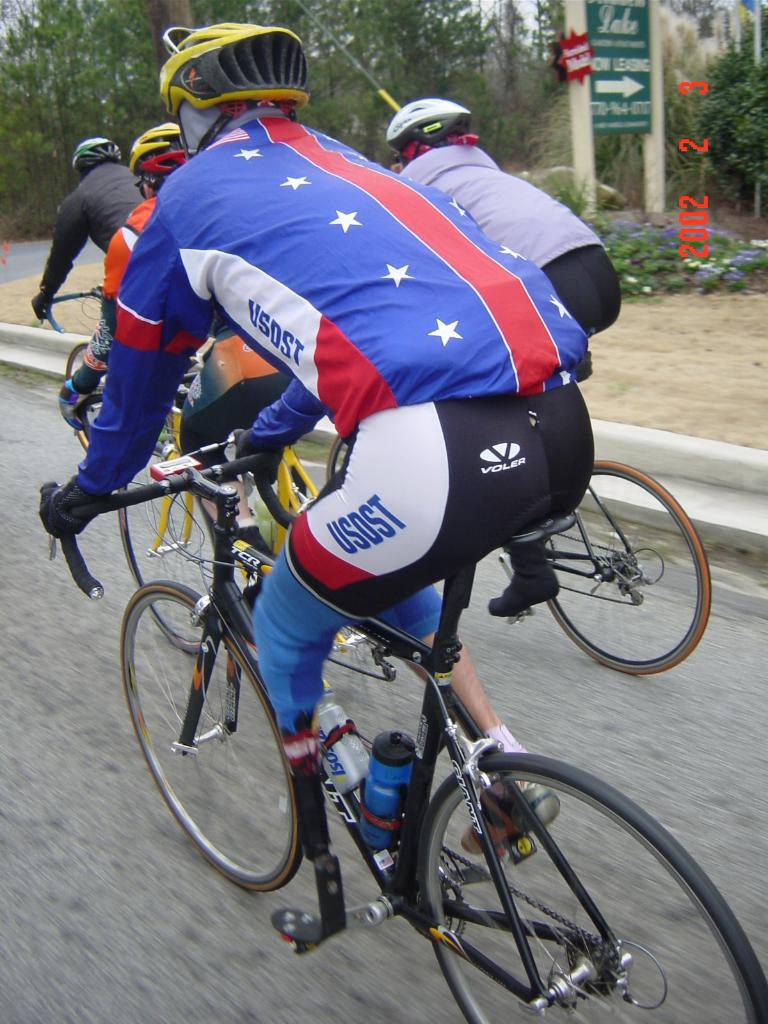Bike: (44, 458, 761, 1013)
